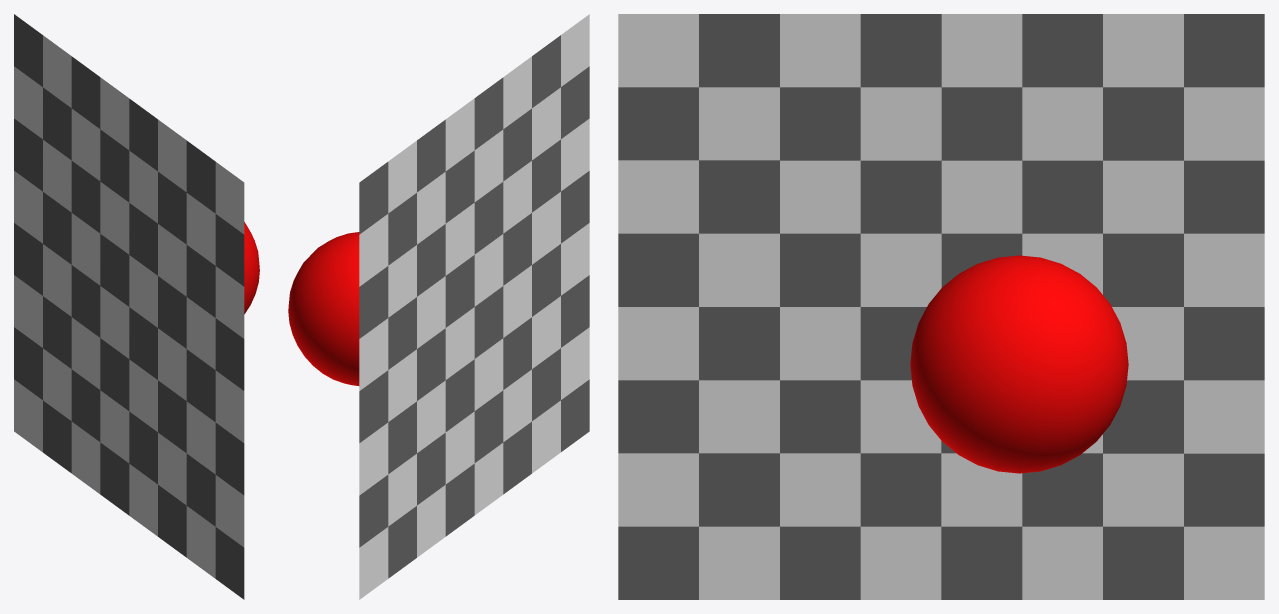
Rendered from MaterialPreview.dae.
3 renders of one model, left to right at view 1: azimuth 30°, elevation 25°; view 2: azimuth 150°, elevation 25°; view 3: azimuth 270°, elevation 25°, orthographic. The views are drawn at different scales.
Visible parts, largest first — view 1: BlackMesh, whiteMesh, SphereMesh; view 2: whiteMesh, BlackMesh, SphereMesh; view 3: whiteMesh, BlackMesh, SphereMesh.
Boxes of the visible parts, left/top/right/bottom form: BlackMesh: left=14, top=14, right=244, bottom=599; whiteMesh: left=14, top=35, right=244, bottom=578; SphereMesh: left=244, top=222, right=259, bottom=314; whiteMesh: left=359, top=14, right=589, bottom=599; BlackMesh: left=359, top=35, right=589, bottom=578; SphereMesh: left=288, top=232, right=359, bottom=385; whiteMesh: left=618, top=14, right=1264, bottom=599; BlackMesh: left=618, top=14, right=1264, bottom=599; SphereMesh: left=910, top=255, right=1128, bottom=473.
Bounding box in the file's own units: 824 × 2216 × 2216.
